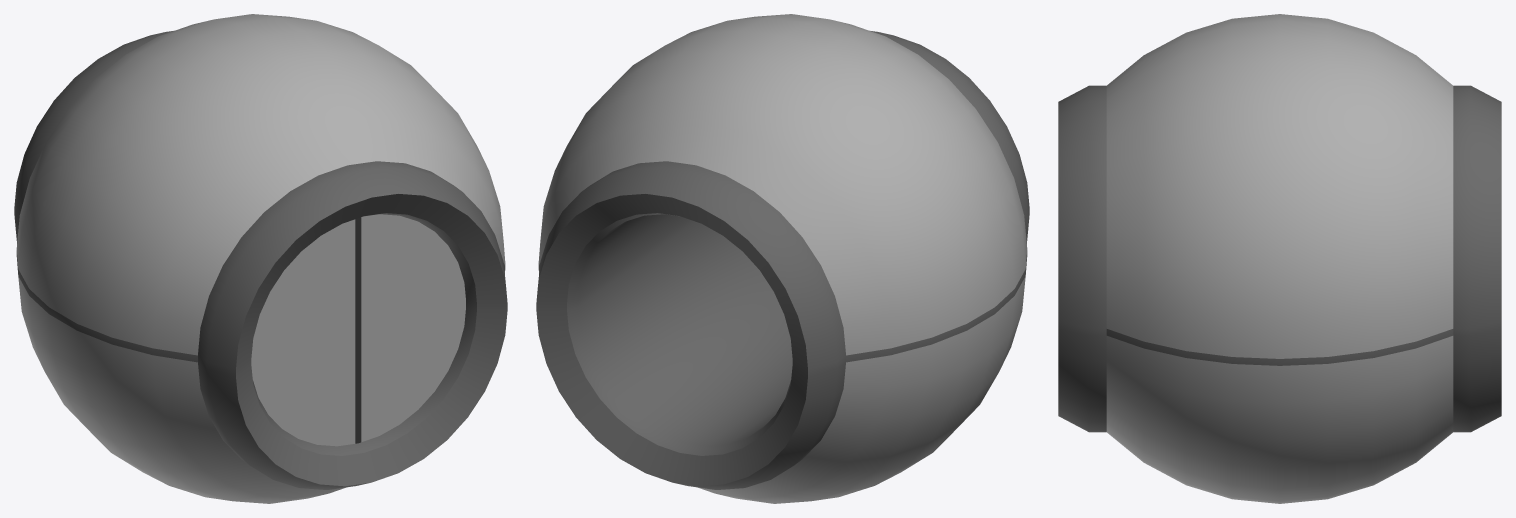
The model's file is House_OpenBack.glb.
3 views of the same model, side by side, from view 1: azimuth 30°, elevation 25°; view 2: azimuth 150°, elevation 25°; view 3: azimuth 270°, elevation 25° (orthographic).
Visible parts, largest first — view 1: House_OpenBack; view 2: House_OpenBack; view 3: House_OpenBack.
Part boxes in pixels (<box>): House_OpenBack: <box>14,14,507,503</box>; House_OpenBack: <box>536,14,1029,503</box>; House_OpenBack: <box>1058,14,1501,503</box>.
Bounding box in the file's own units: 3.99 × 4 × 3.61.
1 material, 1 textured.
